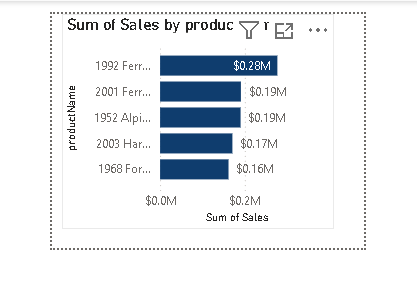

This screenshot's page, from the dashboard's own definition file:
{"tool":"powerbi","page":{"name":"tp1","canvas":[320,240],"ordinal":1},"visuals":[{"type":"barChart","fields":{"Y":["Sum(order details.Sales)"],"Category":["products.productName"]},"box":[10,0,280,220],"z":0}]}

Visuals, with their boxes on the page's 320x240 design canvas (x1, y1, x2, y2). These are canvas units, not pixel positions in the 417x295 screenshot, which may show the page scaled, cropped or inside an application window:
barChart - Sum(order details.Sales) x products.productName: 10 0 290 220
